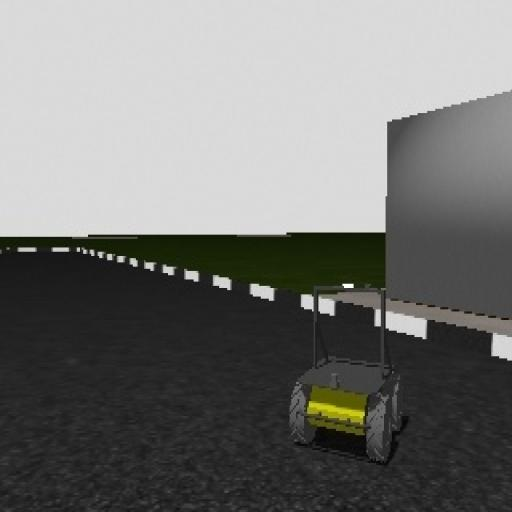huskya200: (277, 272, 409, 465)
